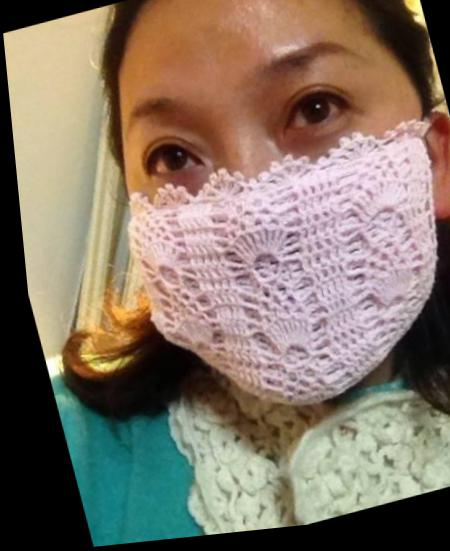WRONG: (93, 33, 450, 422)
